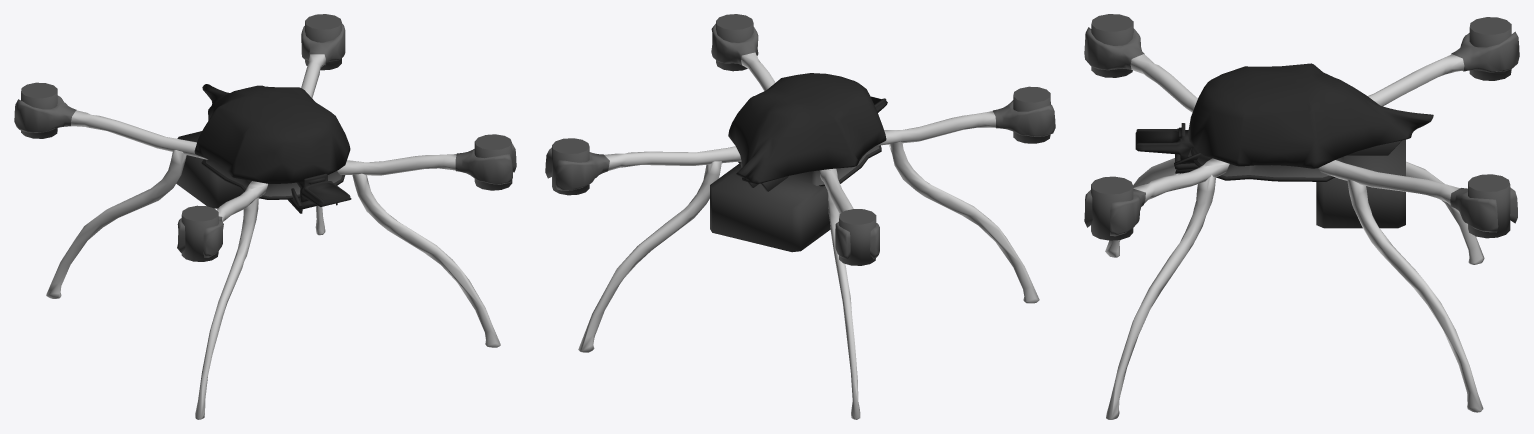
The model's file is navi-drone-hipoly-mount.dae.
The picture shows the model from 3 angles, left to right: view 1: azimuth 30°, elevation 25°; view 2: azimuth 150°, elevation 25°; view 3: azimuth 270°, elevation 25°; orthographic projection. The views are drawn at different scales.
Parts seen in each view (by area): view 1: SOLID.004; view 2: SOLID.004; view 3: SOLID.004.
Part boxes in pixels (x1=…): SOLID.004: x1=14, y1=14, x2=516, y2=419; SOLID.004: x1=545, y1=14, x2=1055, y2=419; SOLID.004: x1=1084, y1=14, x2=1519, y2=419.
Size of the model in its own units: 0.5649 by 0.5551 by 0.3623.
1 material, 1 textured.
